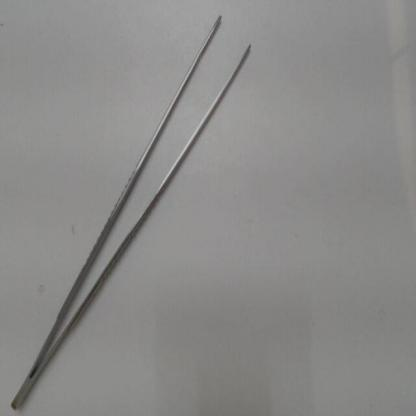DeBakey Dissector: (6, 0, 270, 412)
